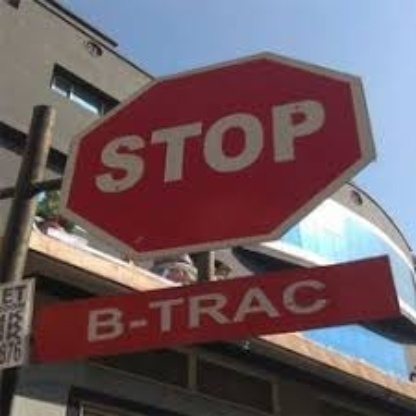stop: (63, 52, 377, 247)
